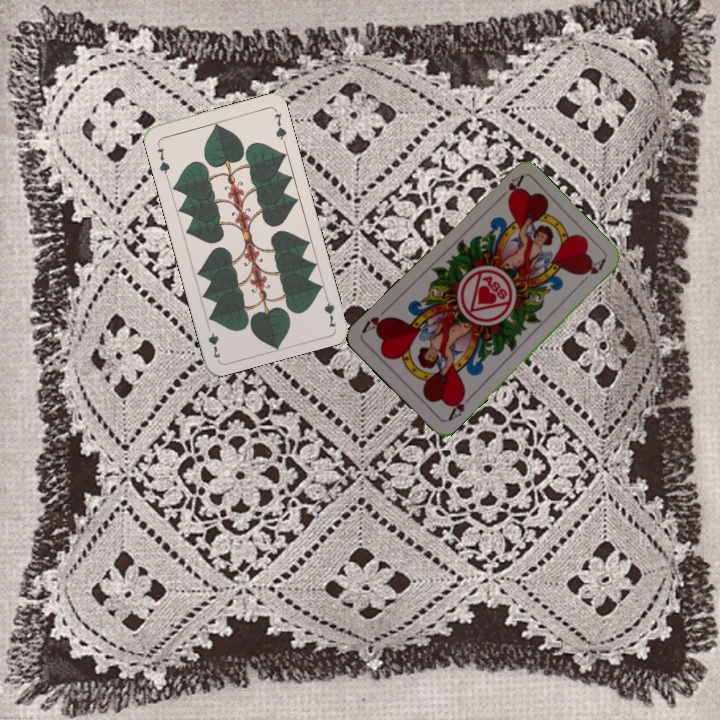G7: (320, 289, 339, 330), (153, 139, 172, 179)
HA: (492, 172, 526, 205), (443, 389, 475, 424)
